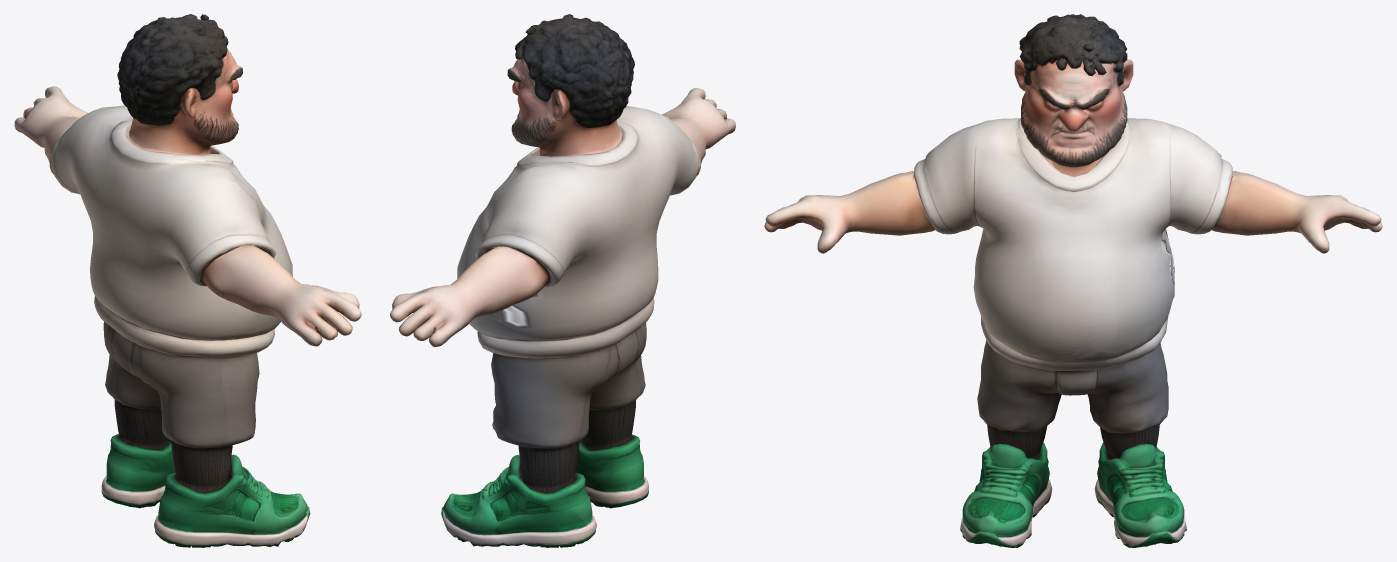
3 views of the same model, side by side, from view 1: azimuth 30°, elevation 25°; view 2: azimuth 150°, elevation 25°; view 3: azimuth 270°, elevation 25° (orthographic).
Visible parts, largest first — view 1: tripo_node_6525cac5; view 2: tripo_node_6525cac5; view 3: tripo_node_6525cac5.
Part boxes in pixels (x1,y1,x2,y2): tripo_node_6525cac5: (14,14,361,547); tripo_node_6525cac5: (390,14,735,547); tripo_node_6525cac5: (764,14,1382,547).
Bounding box in the file's own units: 0.3249 × 0.8767 × 1.
1 material, 1 textured.
